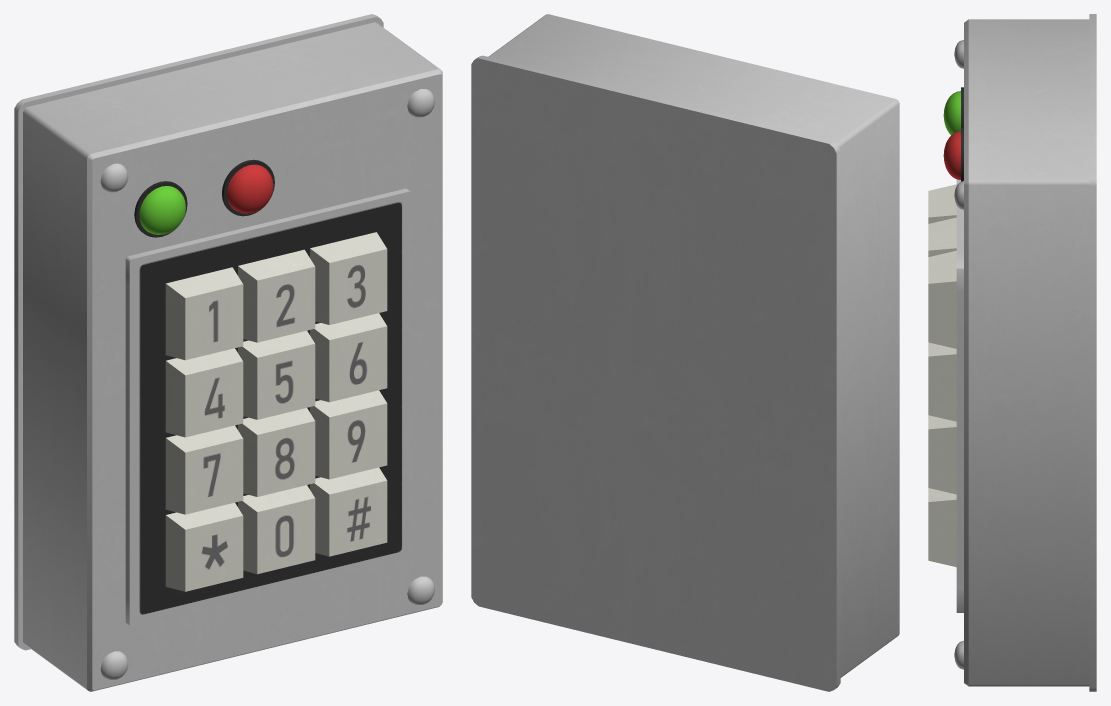
Rendered from Keypad.glb.
3 renders of one model, left to right at view 1: azimuth 30°, elevation 25°; view 2: azimuth 150°, elevation 25°; view 3: azimuth 270°, elevation 25°, orthographic. The views are drawn at different scales.
Parts seen in each view (by area): view 1: Keypad; view 2: Keypad; view 3: Keypad.
Boxes of the visible parts, x1,y1,x2,y2 form: Keypad: (14,14,442,691); Keypad: (471,14,899,691); Keypad: (928,14,1096,691).
Size of the model in its own units: 3.64 by 5.21 by 1.54.
Materials: 1 (1 with a texture image).
